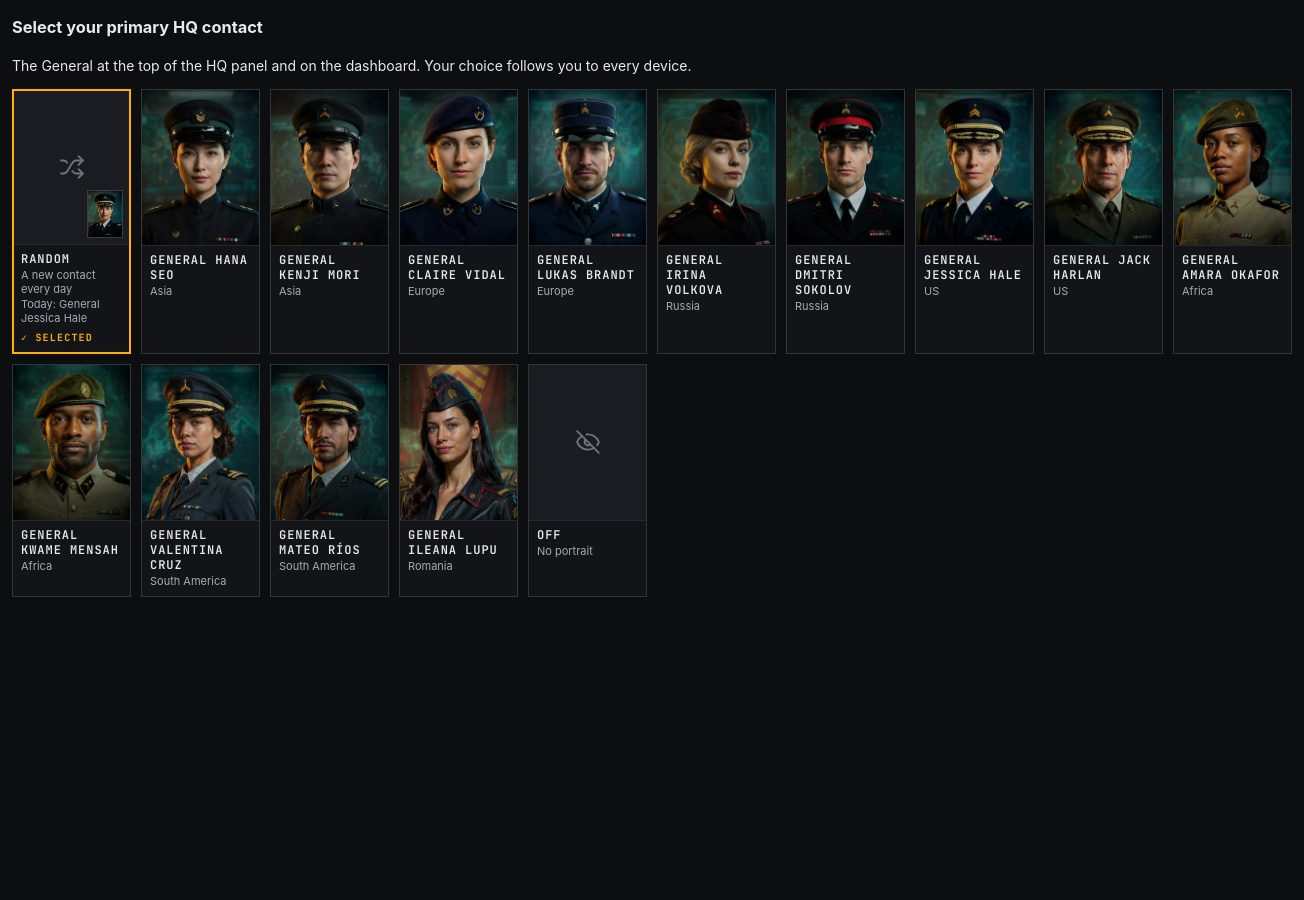
a refused save puts the stored choice back and says so
This screenshot has width=1304, height=900.
Click the radio button labelled "Off No portrait": {"x": 588, "y": 480} [528,364,647,597]
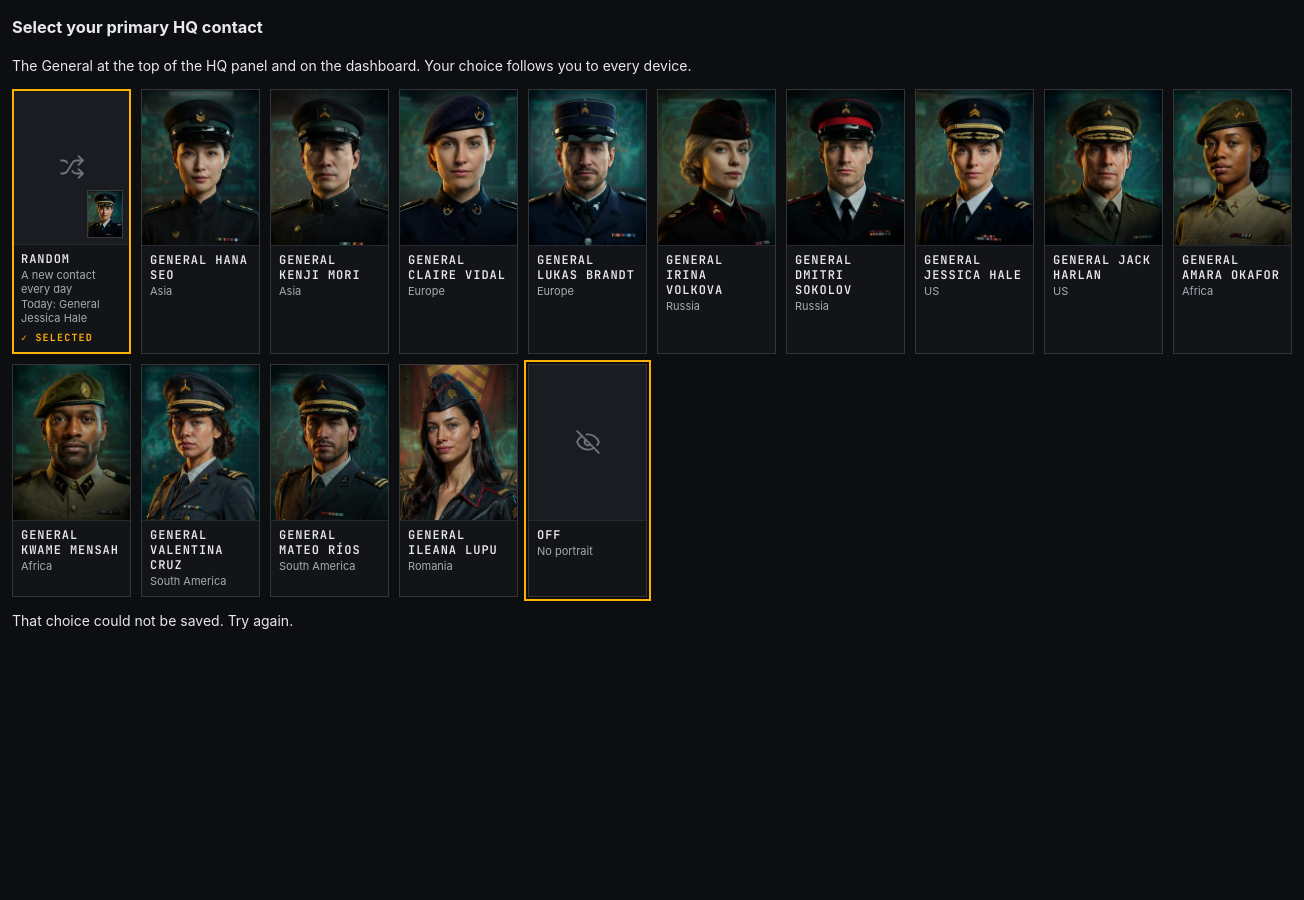
Result: the message "That choice could not be saved. Try again." is shown at [12,612,293,629]
